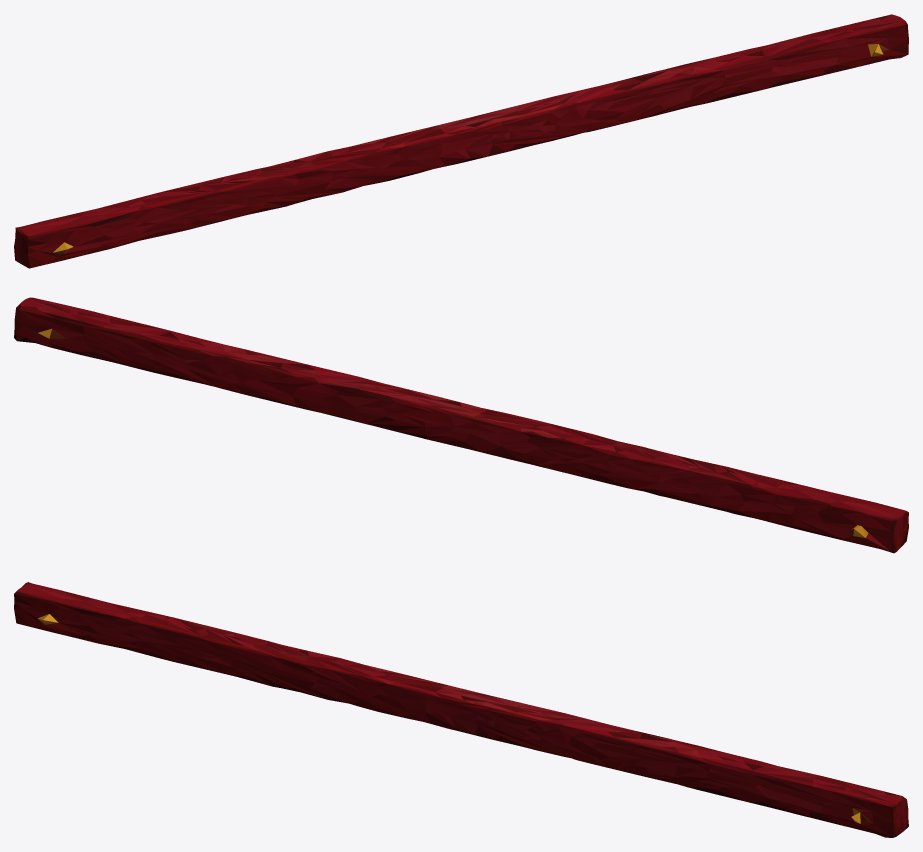
File: beam.glb
3 views of the same model, one above another, from view 1: azimuth 30°, elevation 25°; view 2: azimuth 150°, elevation 25°; view 3: azimuth 330°, elevation 25° (orthographic).
Parts seen in each view (by area): view 1: geometry_0; view 2: geometry_0; view 3: geometry_0.
Part boxes in pixels (box(x1,y1,x2,y2)): geometry_0: box(14, 14, 908, 268); geometry_0: box(14, 297, 908, 553); geometry_0: box(14, 582, 908, 837).
Bounding box in the file's own units: 0.81 × 0.03 × 0.039.
1 material, 1 textured.
